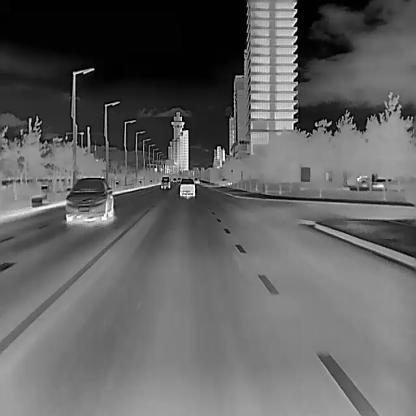car: (65, 176, 114, 223), (178, 177, 195, 197), (160, 176, 169, 188)
